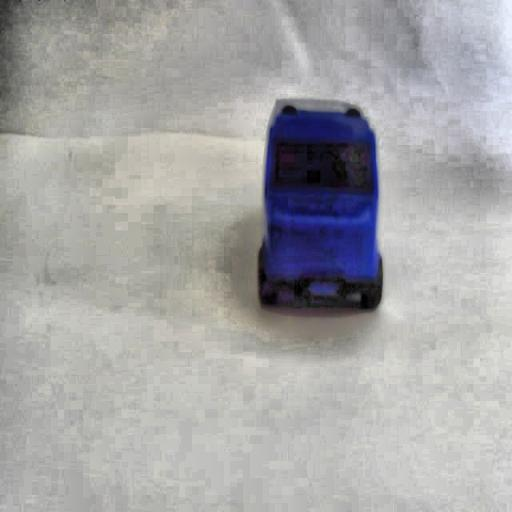police car: (259, 95, 388, 325)
